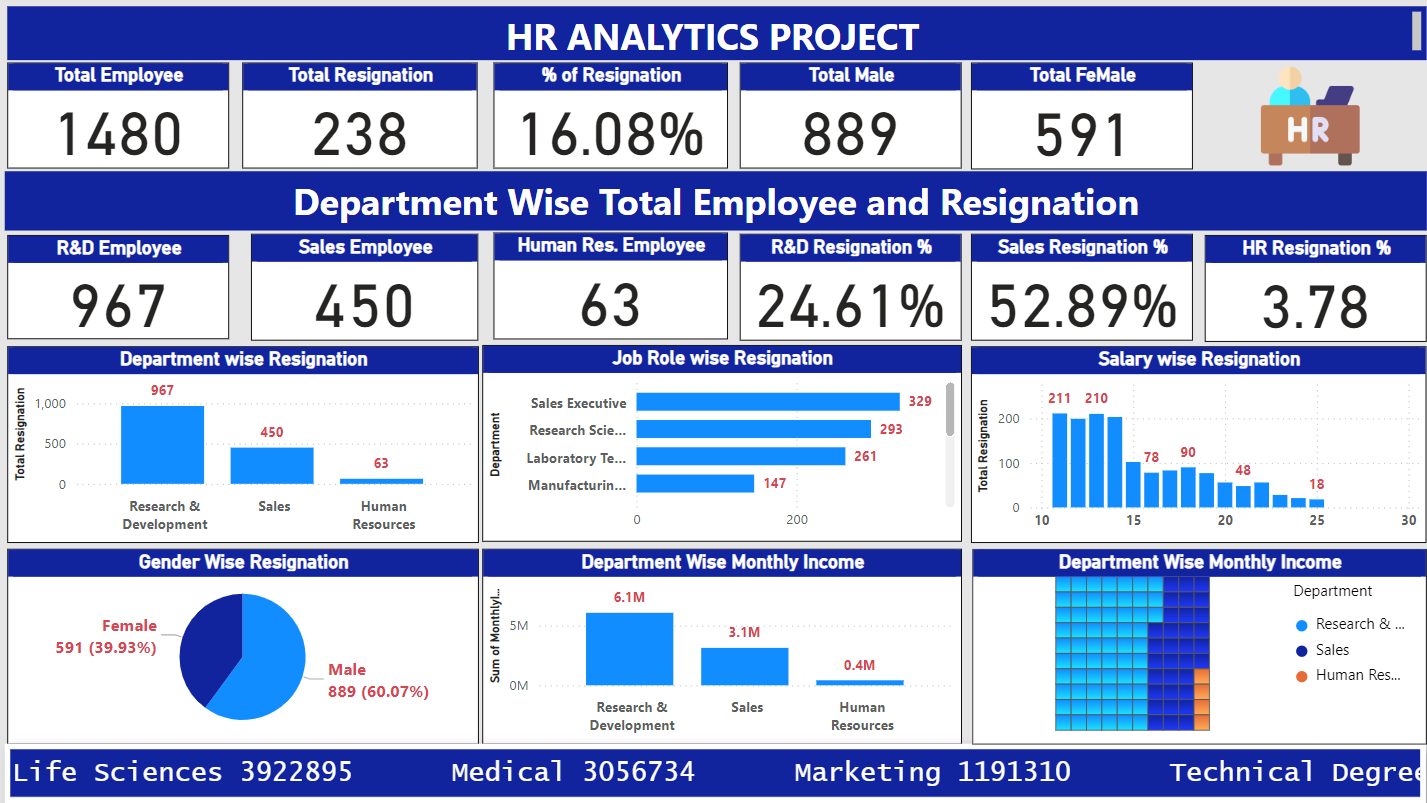

What the dashboard file says about the page in this screenshot:
{"tool":"powerbi","page":{"name":"Page 1","canvas":[1280,720],"ordinal":0},"visuals":[{"type":"textbox","box":[9.7,9.7,1264.3,48.3],"z":0},{"type":"card","title":"Total Employee","fields":{"Values":["HR_Analytics.Total_EmployeeMeasure"]},"box":[9.7,60.3,197.9,94.1],"z":1000},{"type":"card","title":"Total Resignation","fields":{"Values":["HR_Analytics.Total_Resignation_Measure"]},"box":[219.6,60.3,209.9,94.1],"z":2000},{"type":"card","title":"% of Resignation","fields":{"Values":["HR_Analytics.% of Resignation Measure"]},"box":[442.8,60.3,208.7,94.1],"z":3000},{"type":"card","title":"Total Male","fields":{"Values":["HR_Analytics.Total_Male"]},"box":[662.3,60.3,197.9,94.1],"z":4000},{"type":"card","title":"Total FeMale","fields":{"Values":["HR_Analytics.totalFemaleMeasure"]},"box":[868.6,60.3,197.9,95.3],"z":5000},{"type":"image","box":[1066.5,59.1,207.5,97.7],"z":6000},{"type":"textbox","box":[7.2,156.8,1266.8,53.1],"z":7000},{"type":"card","title":"R&D Employee","fields":{"Values":["HR_Analytics.Tot_R&D_Emp"]},"box":[9.7,213.5,197.9,92.9],"z":8000},{"type":"card","title":"Sales Employee","fields":{"Values":["HR_Analytics.Tot_Sales_Emp"]},"box":[226.8,212.3,202.7,95.3],"z":9000},{"type":"card","title":"Human Res. Employee","fields":{"Values":["HR_Analytics.Tot_HumanResource_Emp"]},"box":[442.8,211.1,208.7,95.3],"z":10000},{"type":"card","title":"R&D Resignation %","fields":{"Values":["HR_Analytics.R&D Resignation"]},"box":[662.3,212.3,197.9,95.3],"z":11000},{"type":"card","title":"Sales Resignation %","fields":{"Values":["HR_Analytics.Sales_Resignation"]},"box":[868.6,212.3,197.9,95.3],"z":12000},{"type":"card","title":"HR Resignation %","fields":{"Values":["HR_Analytics.Human_Resource_Resignation"]},"box":[1076.1,213.5,197.9,95.3],"z":13000},{"type":"columnChart","title":"Department wise Resignation","fields":{"Category":["HR_Analytics.Department"],"Y":["CountNonNull(HR_Analytics.Attrition)"]},"box":[9.7,312.5,419.8,174.9],"z":14000},{"type":"barChart","title":"Job Role wise Resignation","fields":{"Y":["CountNonNull(HR_Analytics.Attrition)"],"Category":["HR_Analytics.JobRole"]},"box":[433.1,311.3,427.1,174.9],"z":15000},{"type":"columnChart","title":"Salary wise Resignation","fields":{"Category":["HR_Analytics.PercentSalaryHike"],"Y":["CountNonNull(HR_Analytics.Attrition)"]},"box":[868.6,312.5,405.4,174.9],"z":16000},{"type":"pieChart","title":"Gender Wise Resignation","fields":{"Category":["HR_Analytics.Gender"],"Y":["CountNonNull(HR_Analytics.Attrition)"]},"box":[9.8,493.4,419.8,174.3],"z":17000},{"type":"columnChart","title":"Department Wise Monthly Income","fields":{"Category":["HR_Analytics.Department"],"Y":["Sum(HR_Analytics.MonthlyIncome)"]},"box":[433,493,427,174],"z":18000},{"type":"ScrollingTextVisual1448795304508","fields":{"Measure Absolute":["Sum(HR_Analytics.MonthlyIncome)"],"Category":["HR_Analytics.EducationField"]},"box":[7.3,667.2,1265.7,52.7],"z":19000},{"type":"BrickChart1454871868044","title":"Department Wise Monthly Income","fields":{"Category":["HR_Analytics.Department"],"Value":["Sum(HR_Analytics.MonthlyIncome)"]},"box":[869,493,405,174],"z":20000}]}

Visuals, with their boxes in screenshot pixels (x1, y1, x2, y2), scaled from the page's 1280x720 canvas onto the 1427x803 screenshot:
textbox: bbox(11, 11, 1420, 65)
"Total Employee" card: bbox(11, 67, 231, 172)
"Total Resignation" card: bbox(245, 67, 479, 172)
"% of Resignation" card: bbox(494, 67, 726, 172)
"Total Male" card: bbox(738, 67, 959, 172)
"Total FeMale" card: bbox(968, 67, 1189, 174)
image: bbox(1189, 66, 1420, 175)
textbox: bbox(8, 175, 1420, 234)
"R&D Employee" card: bbox(11, 238, 231, 342)
"Sales Employee" card: bbox(253, 237, 479, 343)
"Human Res. Employee" card: bbox(494, 235, 726, 342)
"R&D Resignation %" card: bbox(738, 237, 959, 343)
"Sales Resignation %" card: bbox(968, 237, 1189, 343)
"HR Resignation %" card: bbox(1200, 238, 1420, 344)
"Department wise Resignation" columnChart: bbox(11, 349, 479, 544)
"Job Role wise Resignation" barChart: bbox(483, 347, 959, 542)
"Salary wise Resignation" columnChart: bbox(968, 349, 1420, 544)
"Gender Wise Resignation" pieChart: bbox(11, 550, 479, 745)
"Department Wise Monthly Income" columnChart: bbox(483, 550, 959, 744)
ScrollingTextVisual1448795304508 - Sum(HR_Analytics.MonthlyIncome) x HR_Analytics.EducationField: bbox(8, 744, 1419, 802)
"Department Wise Monthly Income" BrickChart1454871868044: bbox(969, 550, 1420, 744)
